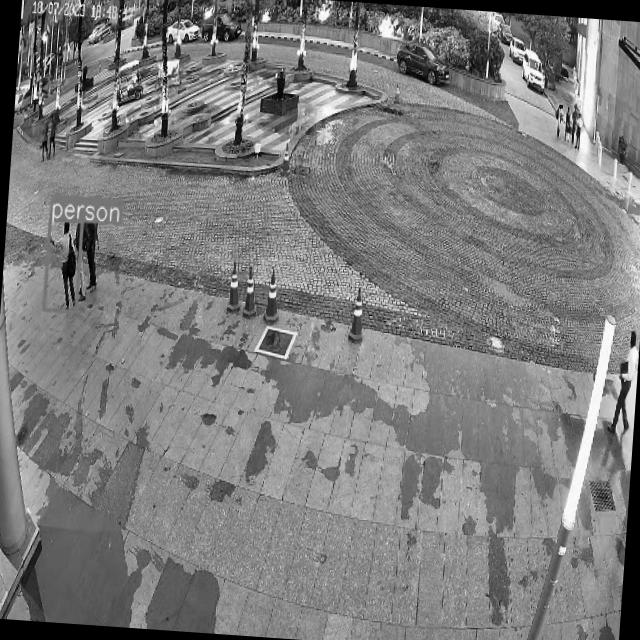person: (44, 218, 82, 318), (79, 220, 106, 298), (47, 112, 63, 158), (570, 113, 586, 154), (38, 118, 51, 163), (554, 103, 564, 140)
